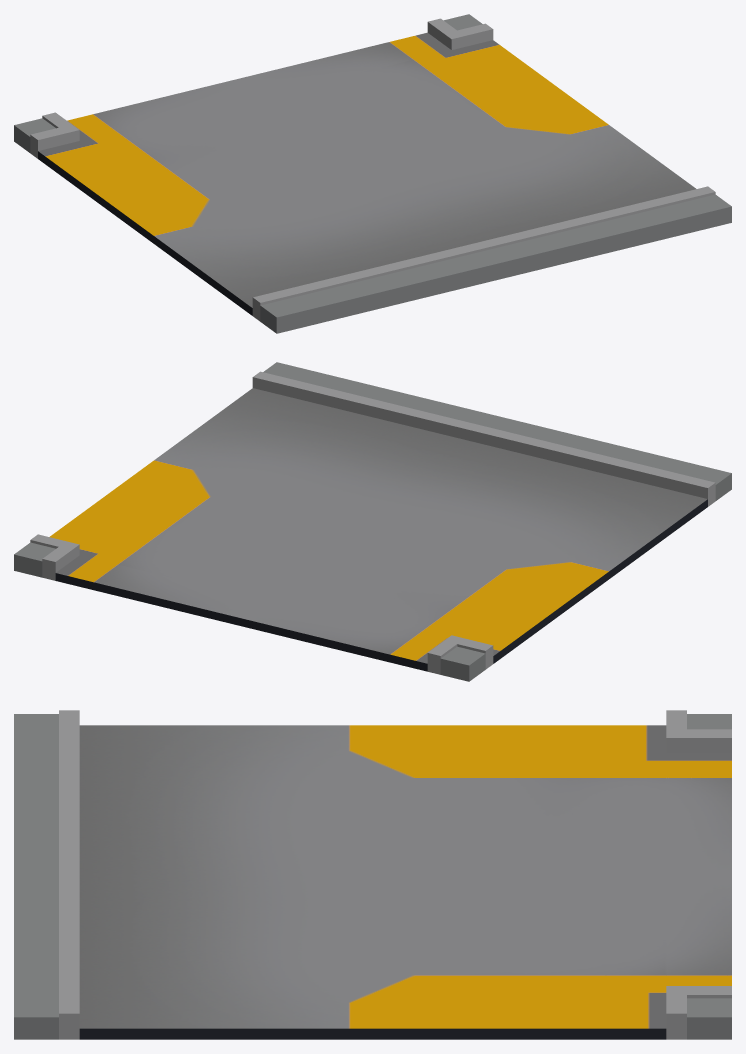
Rendered from Road2_T_Parking_Entrance.fbx.
3 views of the same model, one above another, from view 1: azimuth 30°, elevation 25°; view 2: azimuth 150°, elevation 25°; view 3: azimuth 270°, elevation 25° (orthographic). The views are drawn at different scales.
Parts seen in each view (by area): view 1: Road2_T_Parking_Entrance; view 2: Road2_T_Parking_Entrance; view 3: Road2_T_Parking_Entrance.
Part boxes in pixels (box(x1,y1,x2,y2)): Road2_T_Parking_Entrance: box(14, 14, 731, 333); Road2_T_Parking_Entrance: box(14, 362, 731, 681); Road2_T_Parking_Entrance: box(14, 710, 731, 1039).
Bounding box in the file's own units: 12 × 0.4754 × 12.
